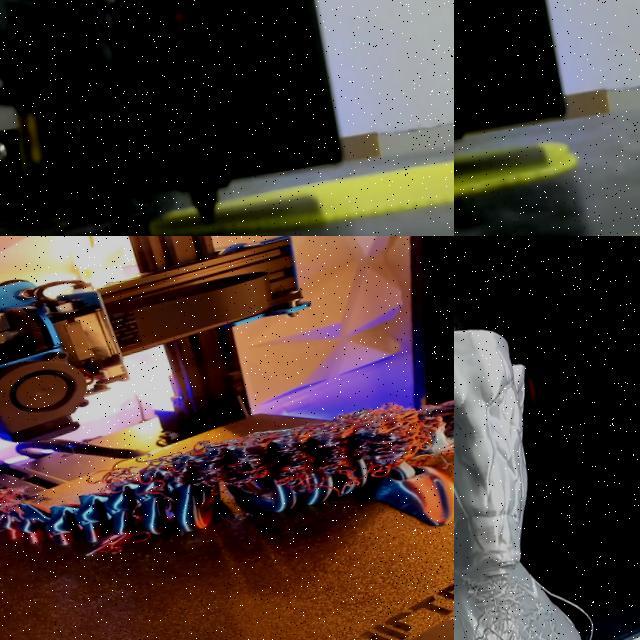spaghetti: (128, 382, 454, 525), (454, 539, 640, 640), (0, 457, 43, 537)
